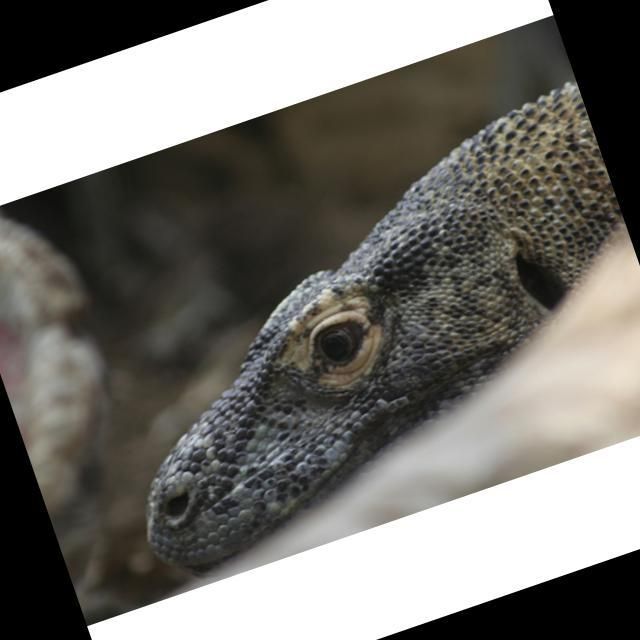KomodoDragon: (49, 75, 640, 589)
